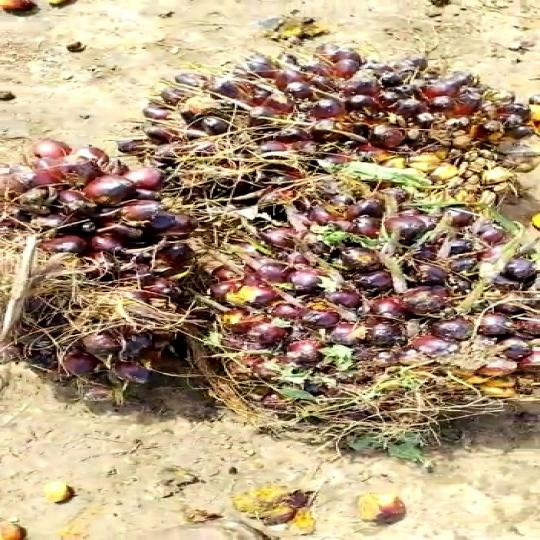kurang masak: (190, 194, 540, 437), (142, 51, 540, 183), (0, 127, 213, 372)
